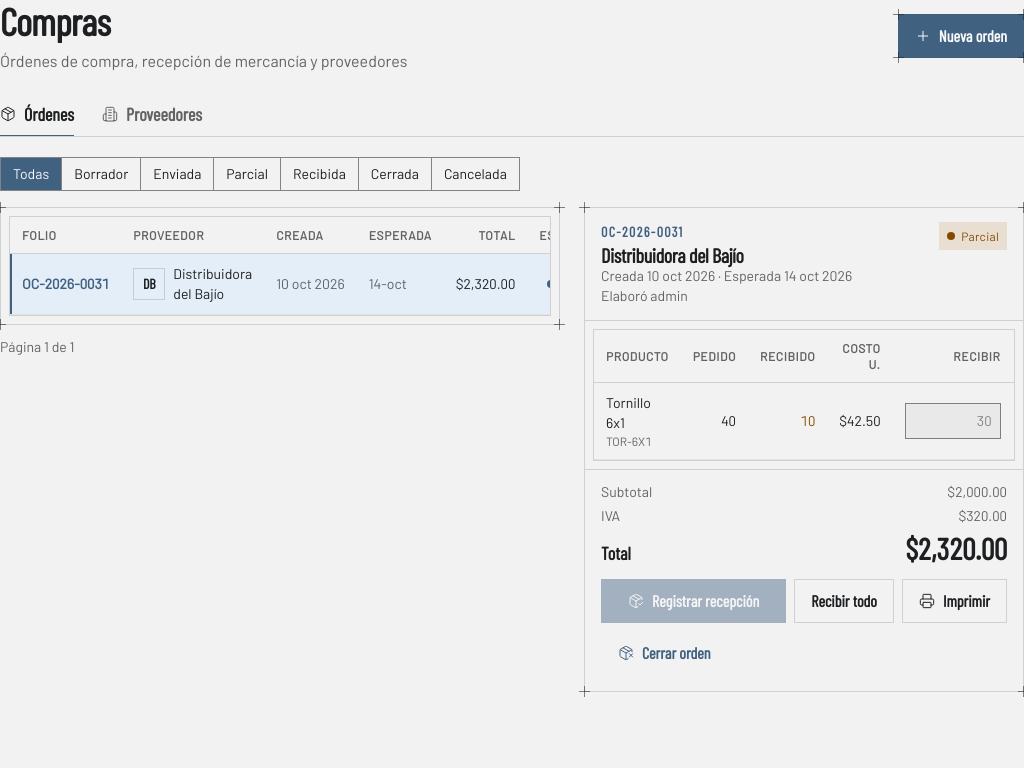
Test: Compras · órdenes › una orden parcial no se cancela: se cierra explicando que lo recibido se queda (RF-22)
Expected: the table named "Partidas de la orden OC-2026-0031" is shown, [594,330,1015,460]
Click the button "Cerrar orden".
click(664, 653)  # box [601,631,728,675]
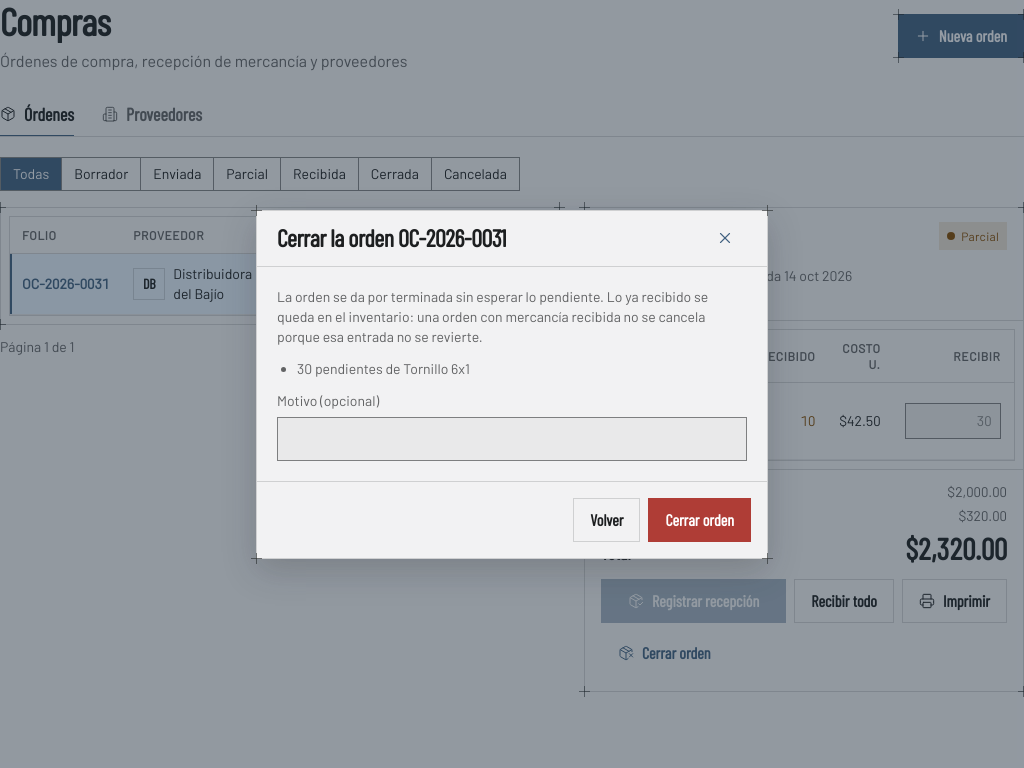
Now the text "no se revierte" is shown, box [277,288,708,344]
Now the list item "30 pendientes de Tornillo 6x1" is shown, box [297,360,470,376]
Type "Ya no surte" into the field labelled "Motivo (opcional)".
click(512, 438); type("Ya no surte")  # box [277,416,747,460]
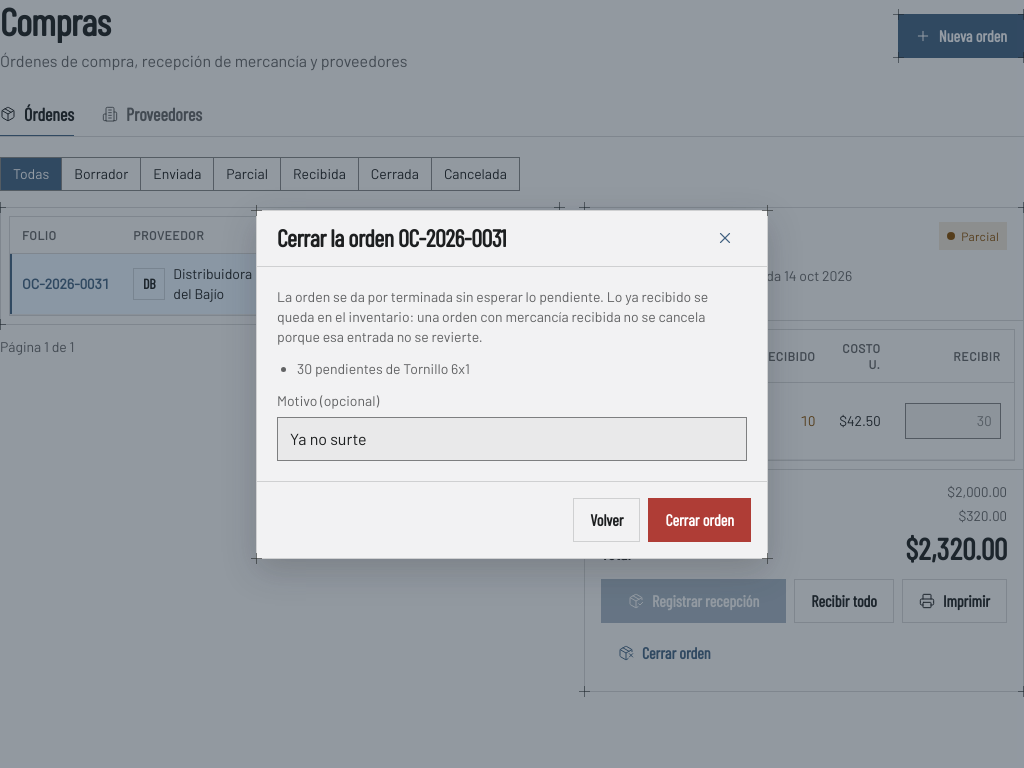
Click the button "Cerrar orden".
click(700, 520)  # box [648,498,751,542]
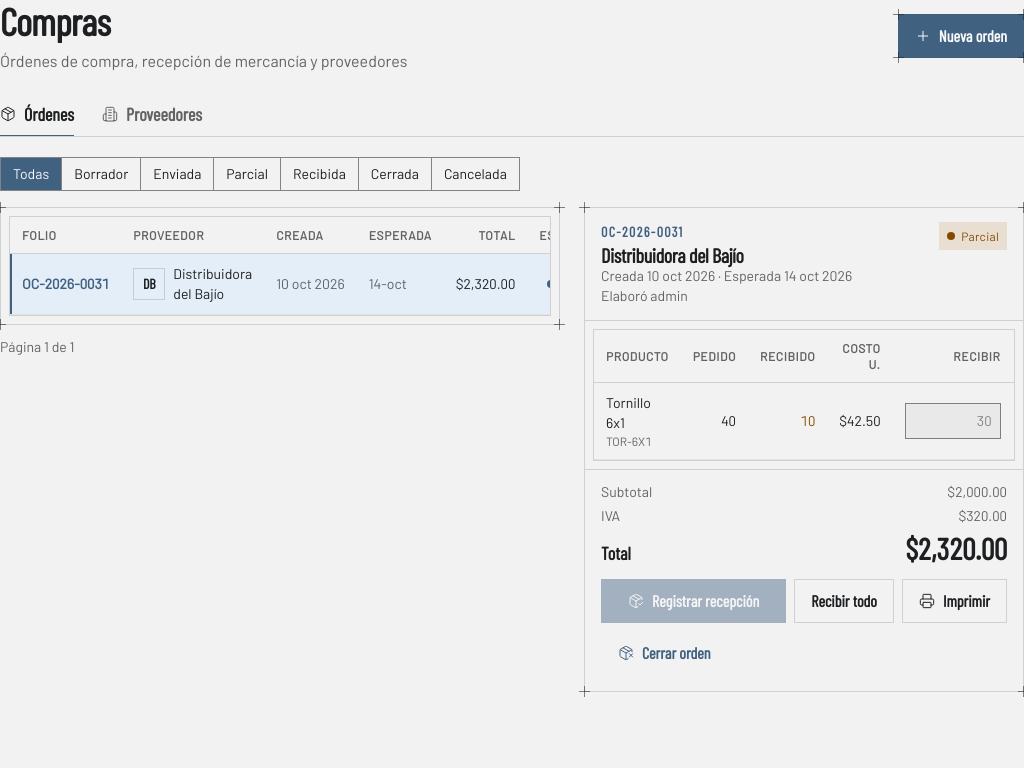
Now the dialog is gone
